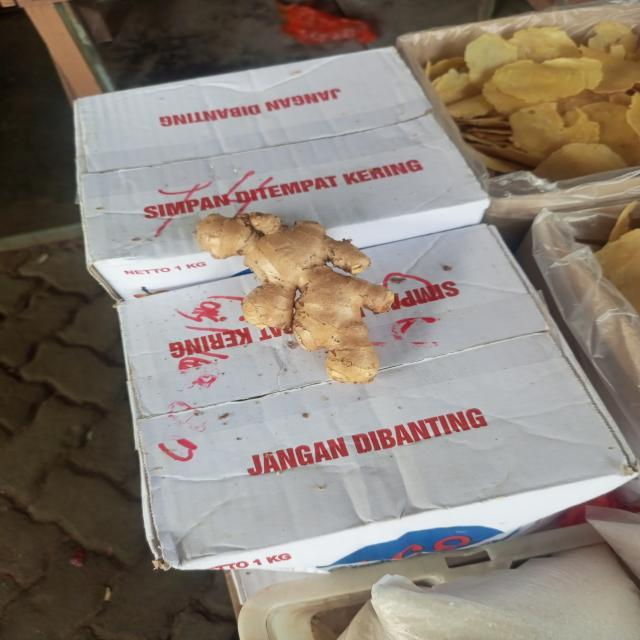ginger: (206, 215, 397, 382)
